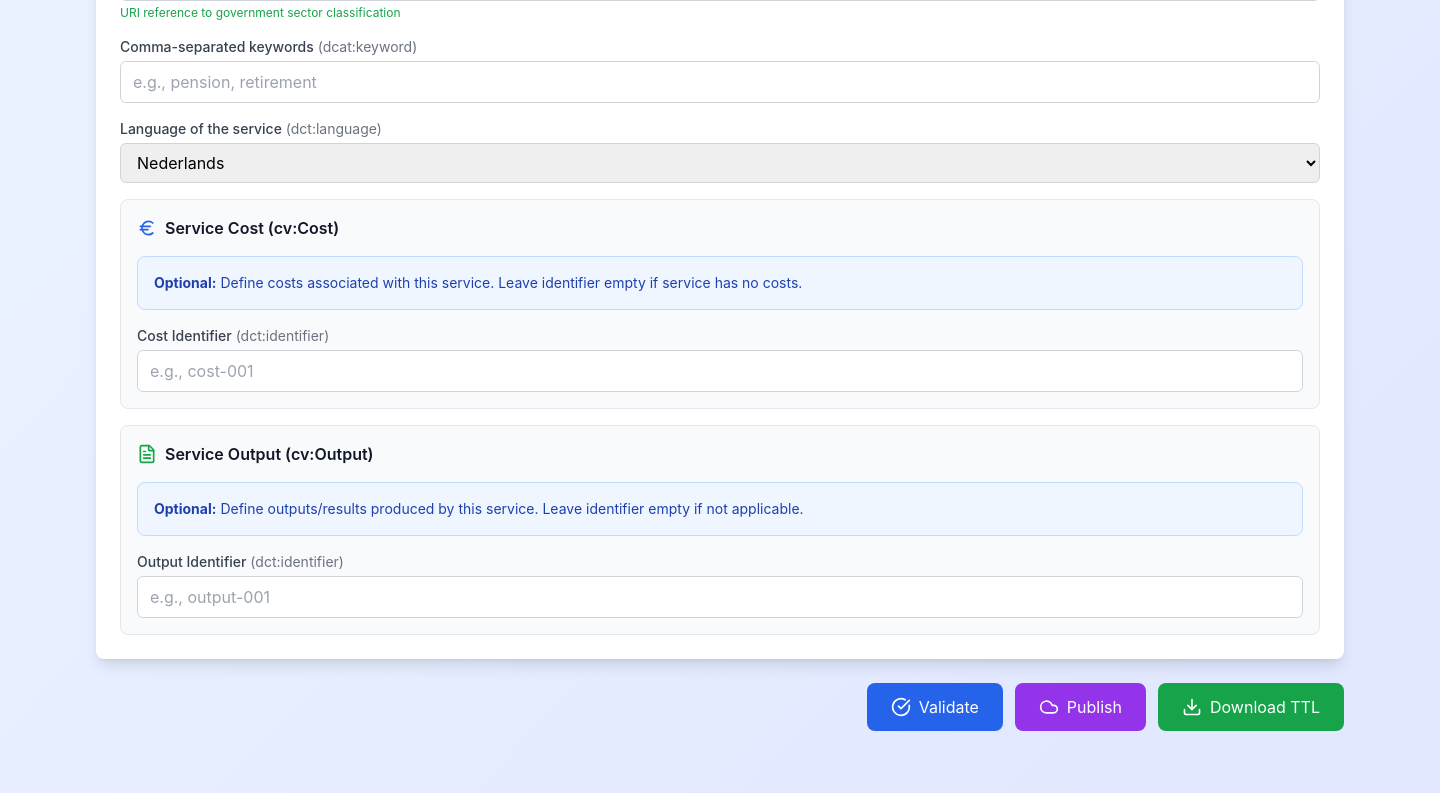
saving through the File System Access API › writes the TTL and confirms where it went
The image size is (1440, 793).
(page scrolled)
Step 1. Click the button "Download TTL" → [1251, 707], box [1158,683,1344,731]
(page scrolled)
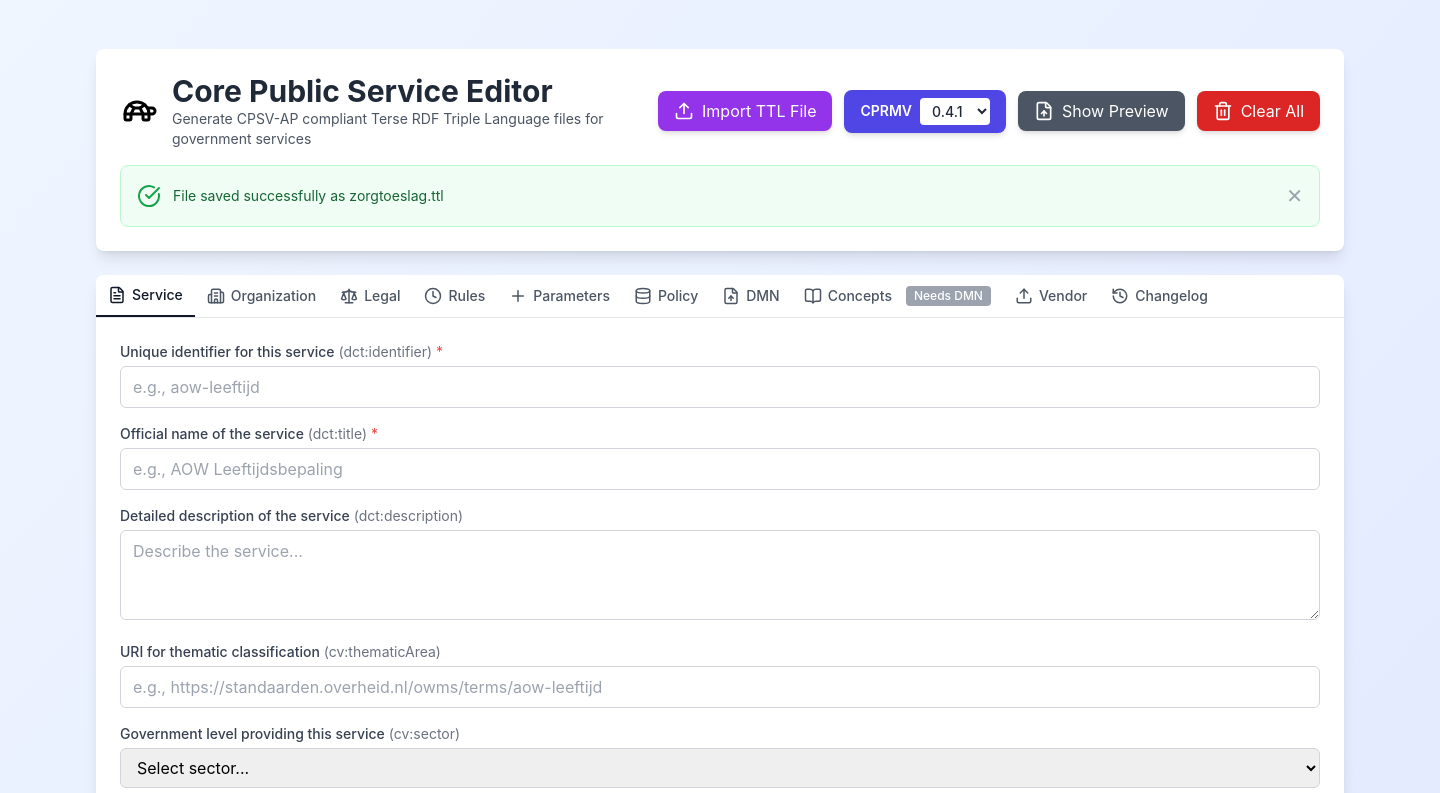
Expected: the text "File saved successfully as zorgtoeslag.ttl" is shown, [173,187,444,204]
